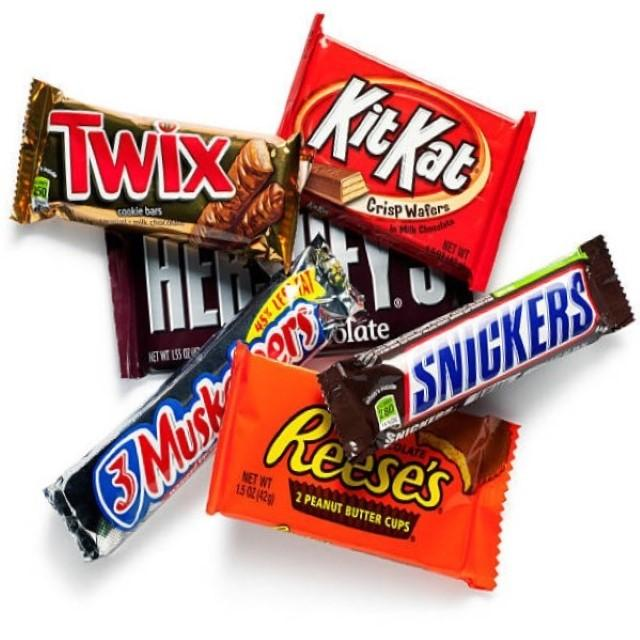kitkat_chocolate: (306, 18, 526, 255)
snickers_chocolate: (375, 232, 612, 463)
